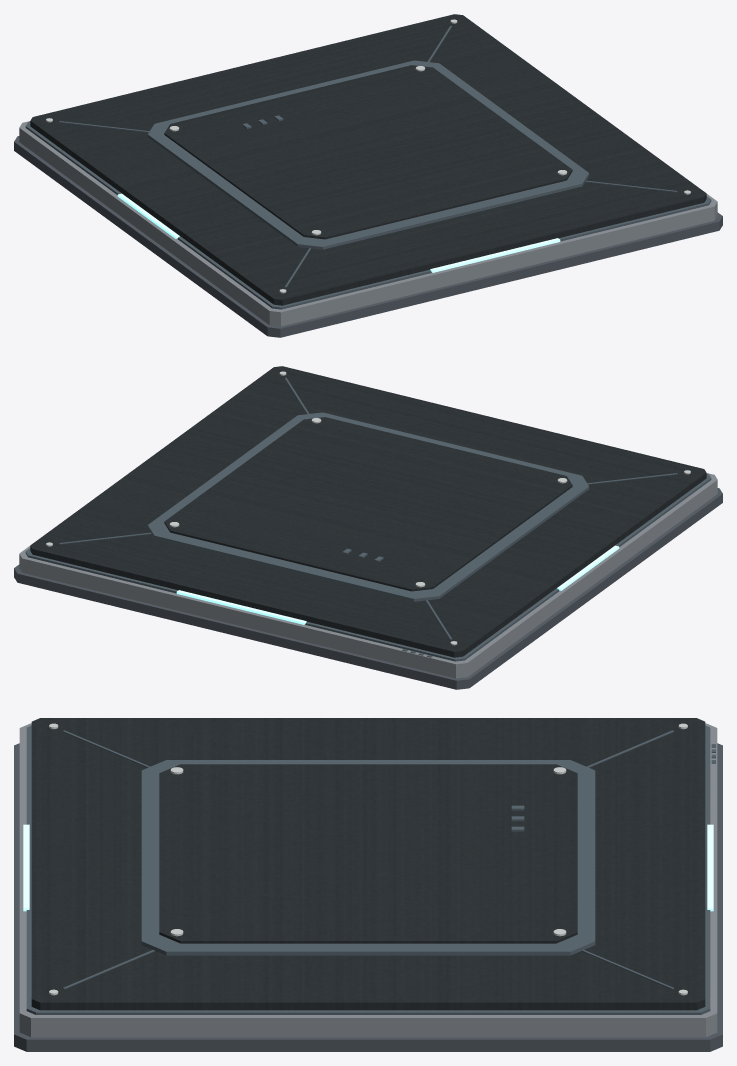
Rendered from m03-metal-service-hatch.glb.
3 renders of one model, top to bottom at view 1: azimuth 30°, elevation 25°; view 2: azimuth 150°, elevation 25°; view 3: azimuth 270°, elevation 25°, orthographic. The views are drawn at different scales.
Parts seen in each view (by area): view 1: service-hatch/003, service-hatch/021, service-hatch/001, service-hatch/000, service-hatch/020, service-hatch/002, service-hatch/014; view 2: service-hatch/003, service-hatch/021, service-hatch/001, service-hatch/000, service-hatch/020, service-hatch/002, service-hatch/013; view 3: service-hatch/003, service-hatch/021, service-hatch/001, service-hatch/020, service-hatch/000, service-hatch/002, service-hatch/013, service-hatch/014.
Boxes of the visible parts, left/top/right/bottom form: service-hatch/003: left=30, top=14, right=706, bottom=305; service-hatch/021: left=164, top=65, right=572, bottom=239; service-hatch/001: left=19, top=121, right=717, bottom=326; service-hatch/000: left=14, top=136, right=722, bottom=337; service-hatch/020: left=147, top=60, right=589, bottom=249; service-hatch/002: left=25, top=121, right=711, bottom=309; service-hatch/014: left=430, top=238, right=560, bottom=272; service-hatch/003: left=30, top=366, right=706, bottom=657; service-hatch/021: left=164, top=417, right=572, bottom=591; service-hatch/001: left=19, top=473, right=717, bottom=678; service-hatch/000: left=14, top=488, right=722, bottom=689; service-hatch/020: left=147, top=412, right=589, bottom=601; service-hatch/002: left=25, top=473, right=711, bottom=661; service-hatch/013: left=176, top=590, right=306, bottom=624; service-hatch/003: left=31, top=718, right=705, bottom=1010; service-hatch/021: left=159, top=764, right=577, bottom=943; service-hatch/001: left=19, top=723, right=717, bottom=1037; service-hatch/020: left=141, top=760, right=595, bottom=955; service-hatch/000: left=14, top=743, right=722, bottom=1051; service-hatch/002: left=26, top=725, right=710, bottom=1014; service-hatch/013: left=707, top=824, right=713, bottom=911; service-hatch/014: left=23, top=824, right=29, bottom=911.
Size of the model in its own units: 1 by 0.08 by 1.
6 materials, 1 textured.
